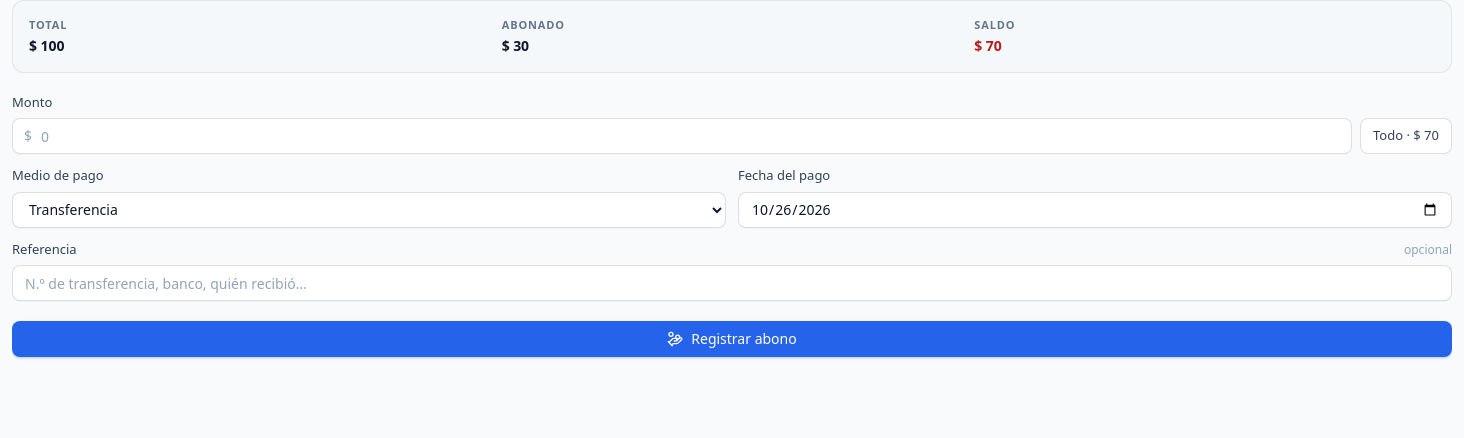
Test case: AddPaymentForm › shows the backend message when the payment is rejected
Type "10" into the number field labelled "Monto" at (682, 136), box [12, 118, 1352, 154]
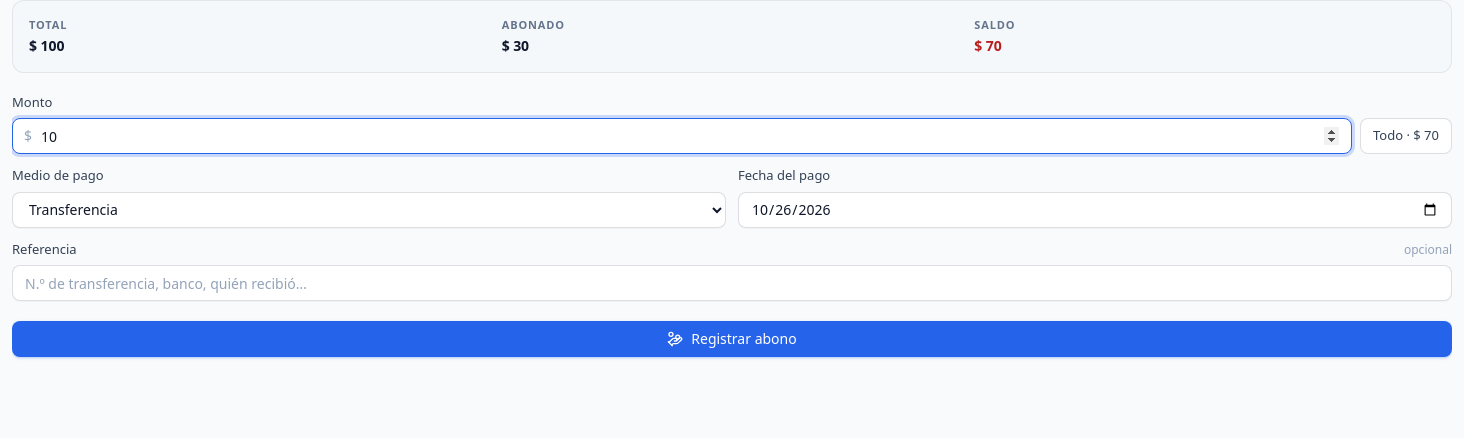
Click the button "Registrar abono" at (732, 339), box [12, 321, 1452, 357]
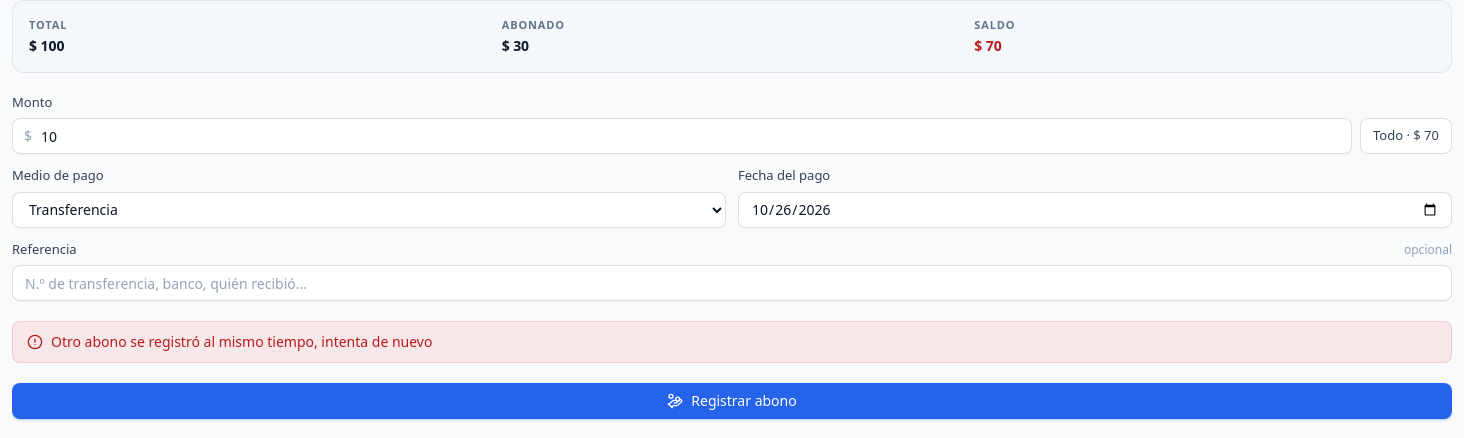
Result: the text "Otro abono se registró al mismo tiempo, intenta de nuevo" is shown at [51, 332, 432, 352]
